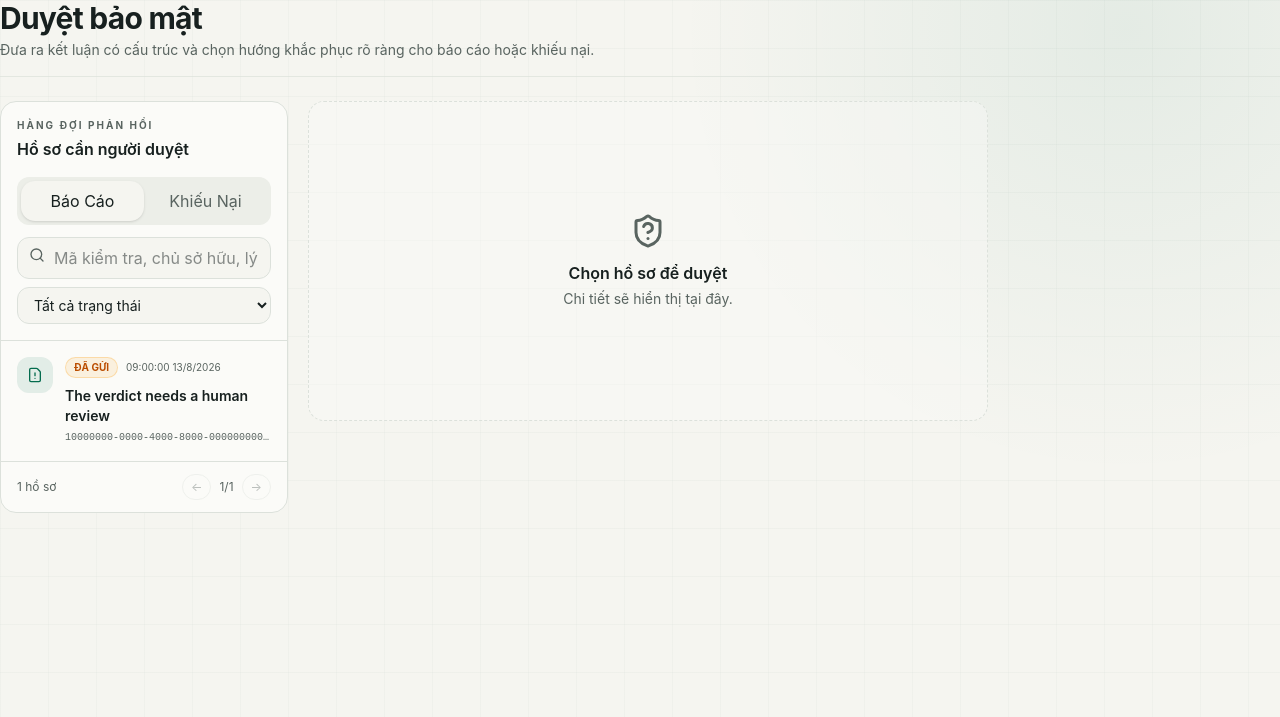
FE7 Security Review Room › loads structured case evidence before enabling a noted report decision
Click the button "The verdict needs a human review" at (144, 401), box [1,341,287,461]
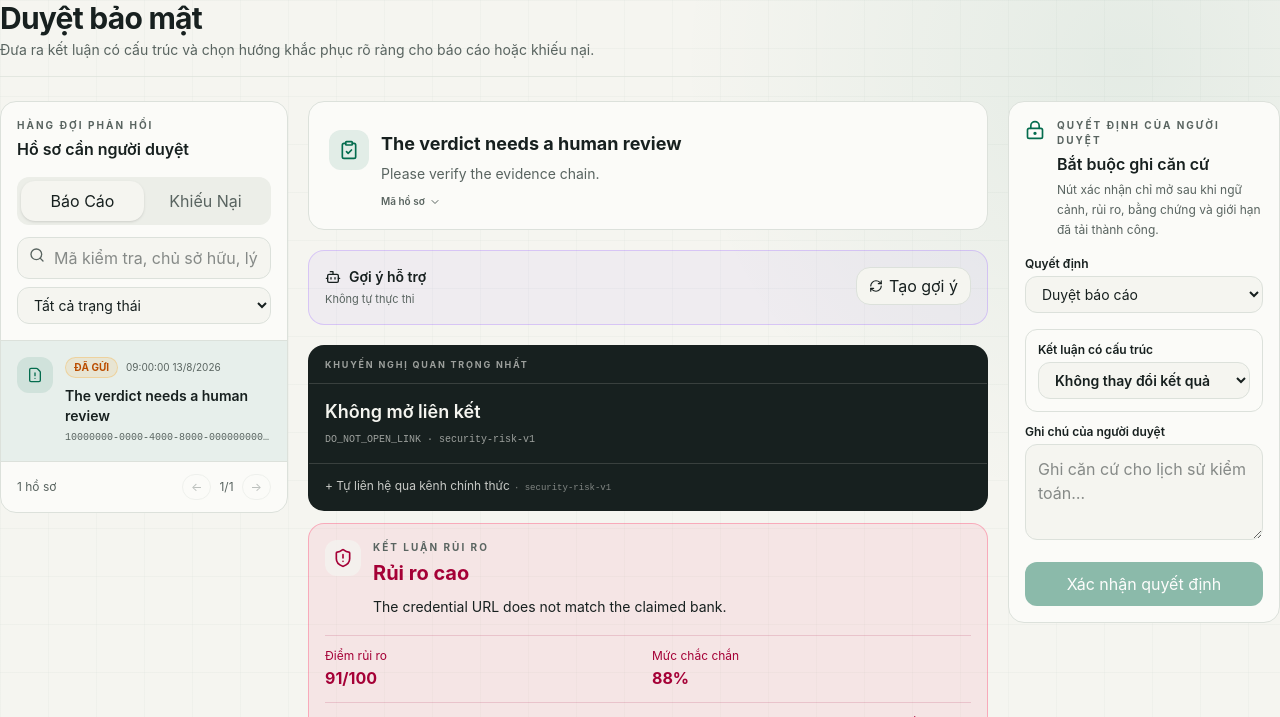
Expected: the heading "Rủi ro cao" is shown, [373,561,469,585]
Expected: the button "Xác nhận quyết định" is disabled, [1025,562,1263,606]
Type "Evidence chain verified" into the text box labelled "Ghi chú của người duyệt" at (1144, 492), box [1025,444,1263,540]
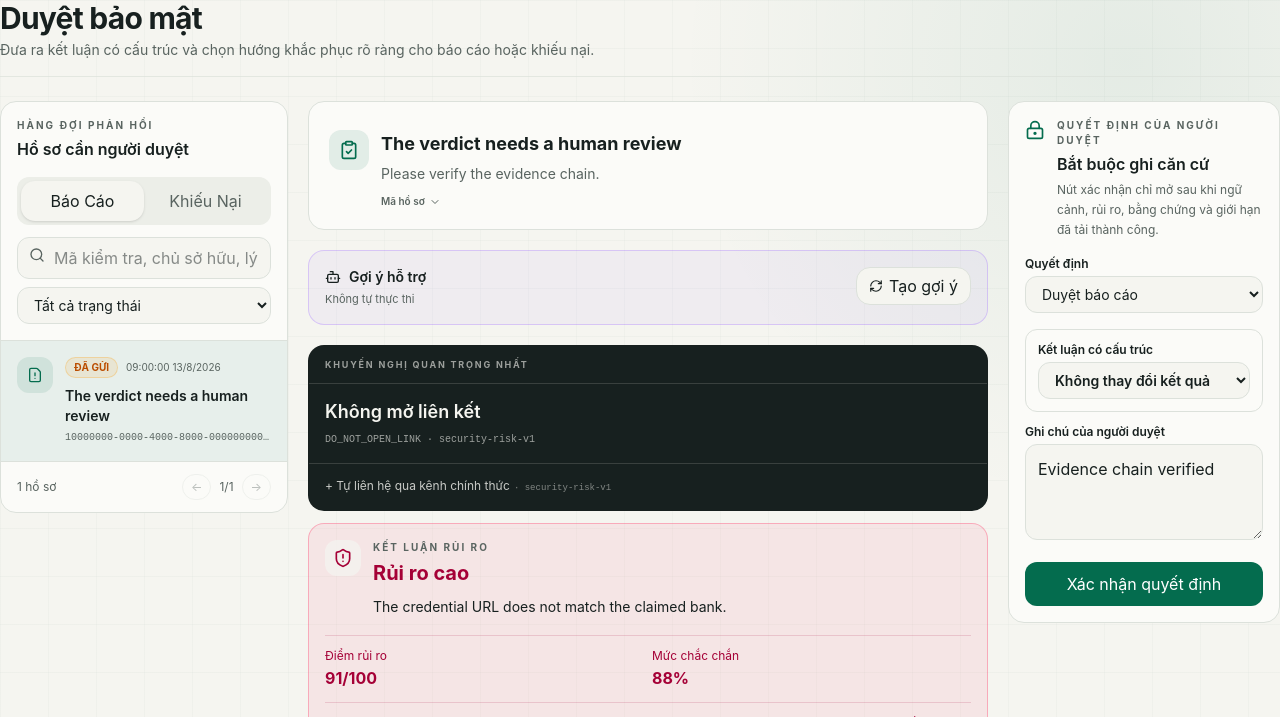
Expected: the button "Xác nhận quyết định" is enabled
Click the button "Xác nhận quyết định" at (1144, 584), box [1025,562,1263,606]
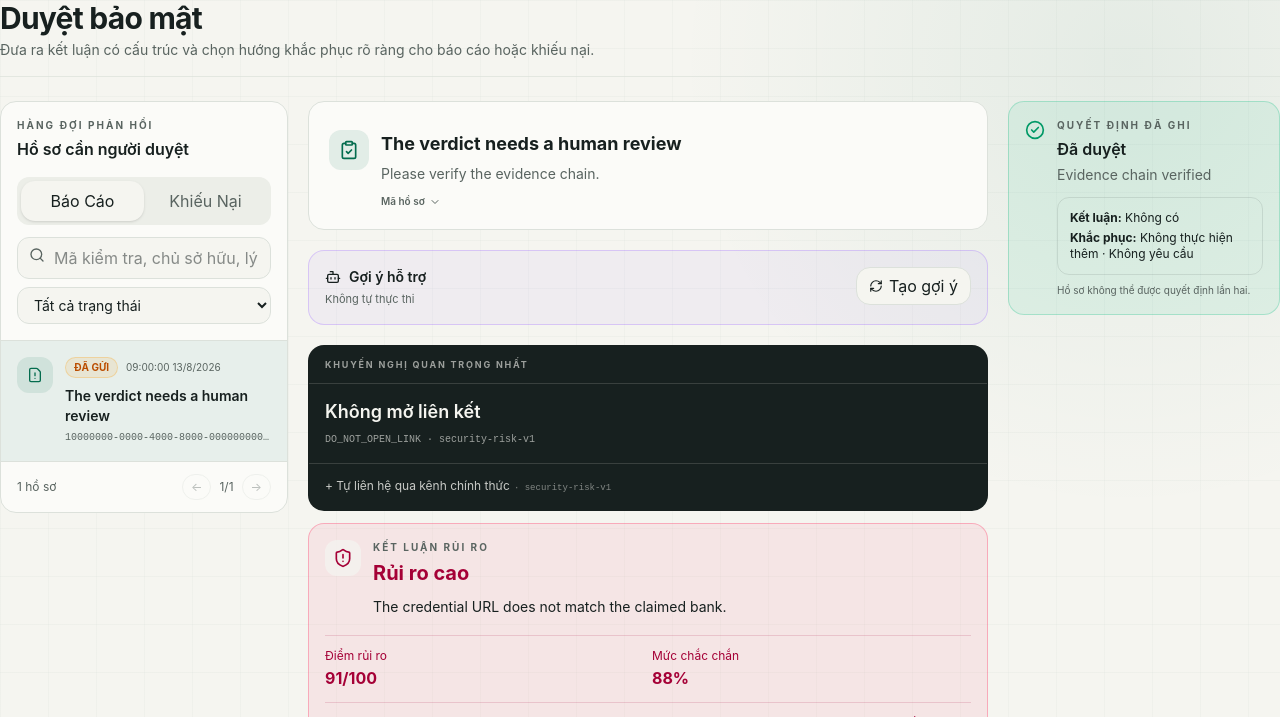
Expected: the text "Quyết định đã ghi" is shown, [1057,119,1192,131]
Expected: the button "Xác nhận quyết định" is gone
